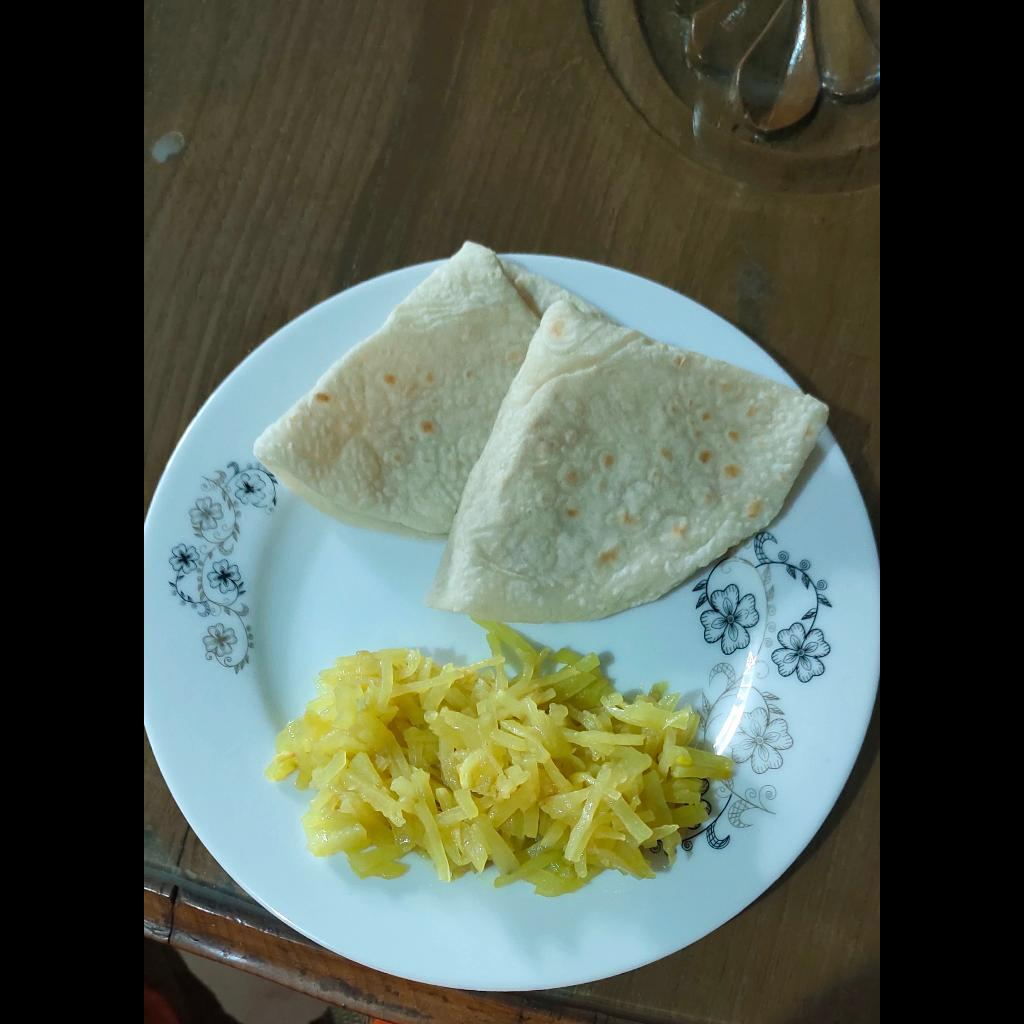papaya: (274, 610, 729, 898)
ruti: (251, 240, 825, 621)
